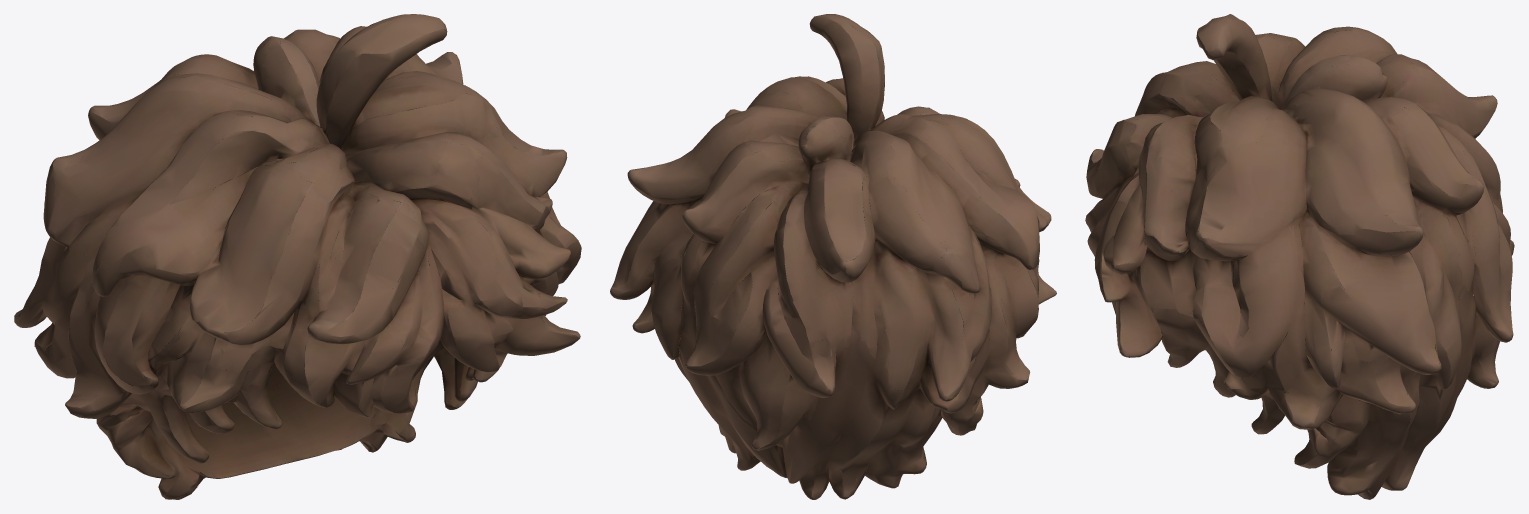
Rendered from hair_h07.glb.
3 views of the same model, side by side, from view 1: azimuth 30°, elevation 25°; view 2: azimuth 150°, elevation 25°; view 3: azimuth 270°, elevation 25° (orthographic). The views are drawn at different scales.
Parts seen in each view (by area): view 1: hair; view 2: hair; view 3: hair.
Part boxes in pixels (left/top/right/bottom): hair: left=14, top=14, right=581, bottom=499; hair: left=610, top=14, right=1056, bottom=499; hair: left=1085, top=14, right=1514, bottom=499.
Bounding box in the file's own units: 2.94 × 3.05 × 2.55.
Materials: 1 (1 with a texture image).
